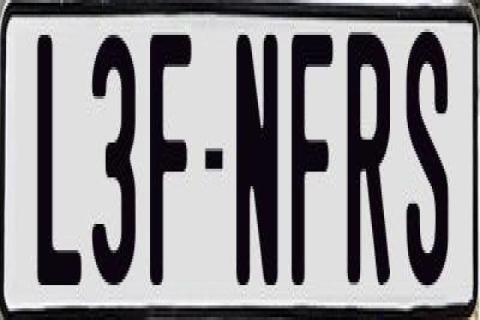0: (92, 29, 138, 288)
F: (291, 32, 338, 300), (149, 32, 195, 291)
L: (36, 32, 82, 294)
N: (234, 29, 278, 279)
R: (344, 23, 390, 276)
S: (406, 26, 452, 291)
